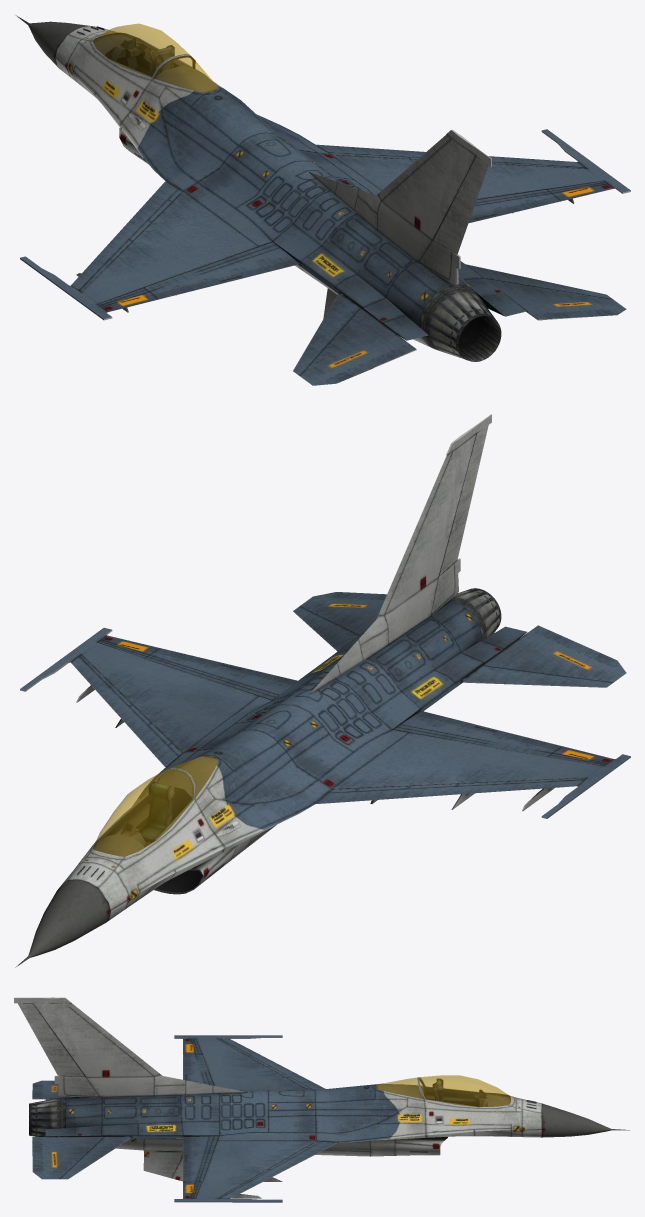
3 views of the same model, one above another, from view 1: azimuth 30°, elevation 25°; view 2: azimuth 150°, elevation 25°; view 3: azimuth 270°, elevation 25° (orthographic). The views are drawn at different scales.
Visible parts, largest first — view 1: F16, stabL, Glass, stabR, flapL, rudder, flapR; view 2: F16, stabL, Glass, stabR, flapL, flapR, rudder; view 3: F16, stabR, Glass, rudder, flapR, flapL, stabL.
Boxes of the visible parts, <box> form: F16: <box>15,15,630,361</box>; stabL: <box>293,293,416,385</box>; Glass: <box>93,23,217,91</box>; stabR: <box>466,264,626,320</box>; flapL: <box>147,245,299,299</box>; rudder: <box>433,156,488,256</box>; flapR: <box>468,191,561,222</box>; F16: <box>15,414,630,967</box>; stabL: <box>460,625,626,687</box>; Glass: <box>93,756,217,856</box>; stabR: <box>293,592,386,651</box>; flapL: <box>397,711,561,754</box>; flapR: <box>147,648,297,697</box>; rudder: <box>438,425,488,576</box>; F16: <box>14,997,629,1202</box>; stabR: <box>32,1136,131,1179</box>; Glass: <box>375,1075,510,1106</box>; rudder: <box>14,1003,85,1076</box>; flapR: <box>183,1136,214,1182</box>; flapL: <box>183,1055,209,1084</box>; stabL: <box>32,1080,64,1098</box>.
Size of the model in its own units: 9.6 by 4.64 by 15.06.
Materials: 2 (1 with a texture image).
